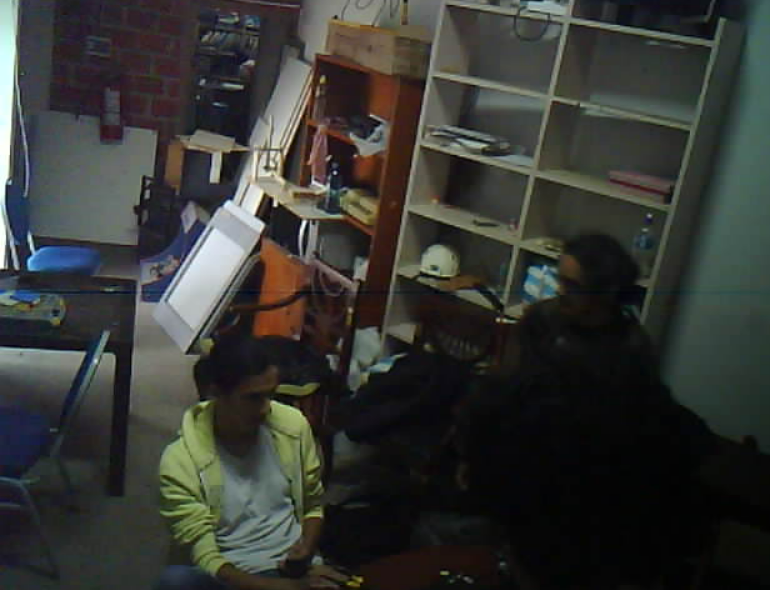person: (457, 207, 715, 590), (165, 321, 377, 590)
